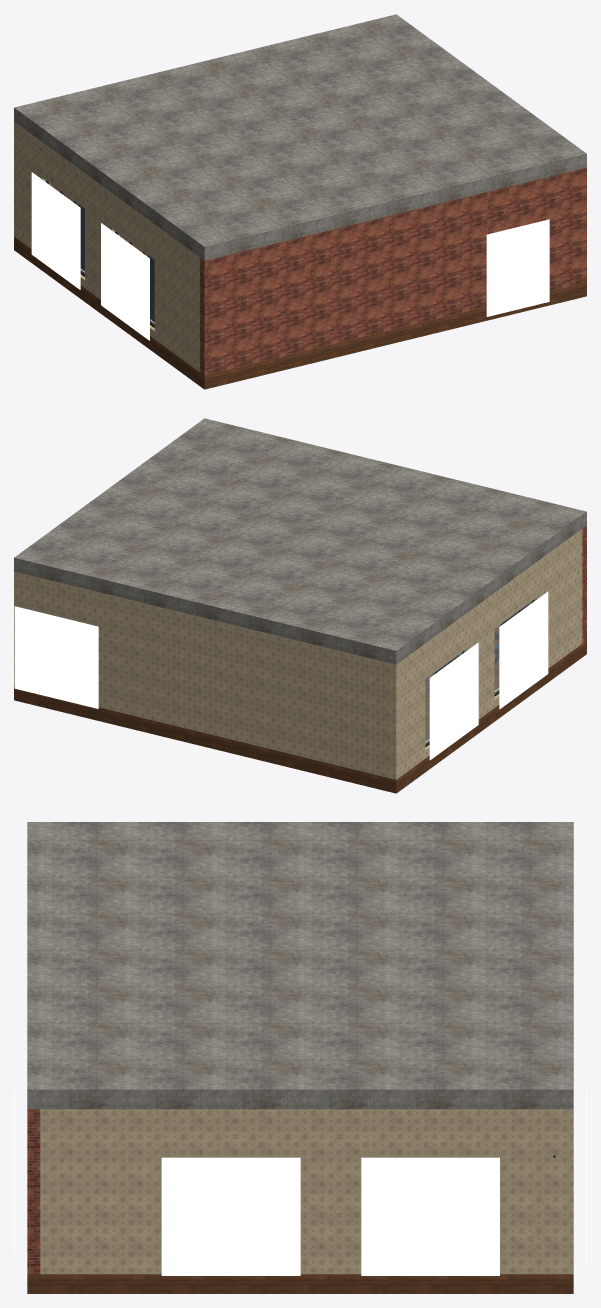
The model's file is room.glb.
3 views of the same model, one above another, from view 1: azimuth 30°, elevation 25°; view 2: azimuth 150°, elevation 25°; view 3: azimuth 270°, elevation 25° (orthographic). The views are drawn at different scales.
Parts seen in each view (by area): view 1: Slab, Pier04, Floor, Pier2, Sky04, Pier14, Sky02, Sky1, Pier12, Lintel04, Pier02, Lintel1 (+2 smaller); view 2: Slab, Pier0, Floor, Sky0, Pier2, Sky02, Sky1, Pier02, Lintel0, Pier12, Lintel02, Lintel1 (+1 smaller); view 3: Slab, Pier22, Sky12, Sky03, Pier13, Pier03, Floor, Lintel03, Lintel12, Pier1, Pier14.
Boxes of the visible parts, bbox=[...] form: Slab: bbox=[14, 14, 586, 260]; Pier04: bbox=[200, 192, 487, 375]; Floor: bbox=[14, 235, 586, 389]; Pier2: bbox=[154, 224, 199, 372]; Sky04: bbox=[486, 219, 549, 316]; Pier14: bbox=[540, 167, 586, 291]; Sky02: bbox=[31, 172, 80, 289]; Sky1: bbox=[101, 223, 149, 340]; Pier12: bbox=[85, 173, 113, 299]; Lintel04: bbox=[487, 179, 539, 234]; Pier02: bbox=[18, 125, 43, 248]; Lintel1: bbox=[112, 193, 154, 259]; Slab: bbox=[14, 418, 586, 664]; Pier0: bbox=[97, 592, 400, 779]; Floor: bbox=[14, 624, 586, 793]; Sky0: bbox=[14, 606, 98, 708]; Pier2: bbox=[529, 529, 582, 668]; Sky02: bbox=[429, 642, 478, 760]; Sky1: bbox=[499, 591, 548, 709]; Pier02: bbox=[401, 644, 425, 776]; Lintel0: bbox=[24, 574, 97, 626]; Pier12: bbox=[466, 593, 494, 719]; Lintel02: bbox=[425, 613, 467, 678]; Lintel1: bbox=[494, 562, 536, 627]; Slab: bbox=[27, 822, 573, 1109]; Pier22: bbox=[40, 1109, 170, 1274]; Sky12: bbox=[161, 1157, 300, 1275]; Sky03: bbox=[361, 1157, 499, 1275]; Pier13: bbox=[292, 1109, 369, 1274]; Pier03: bbox=[491, 1109, 560, 1274]; Floor: bbox=[27, 1274, 573, 1293]; Lintel03: bbox=[370, 1109, 491, 1157]; Lintel12: bbox=[170, 1109, 291, 1157]; Pier1: bbox=[560, 1109, 573, 1274]; Pier14: bbox=[27, 1109, 40, 1274].
Size of the model in its own units: 15.22 by 5.2 by 13.22.
Materials: 97 (15 with a texture image).
